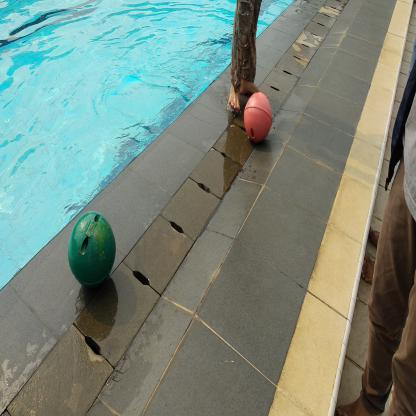green_buoy: (65, 209, 118, 288)
red_buoy: (242, 89, 272, 145)
